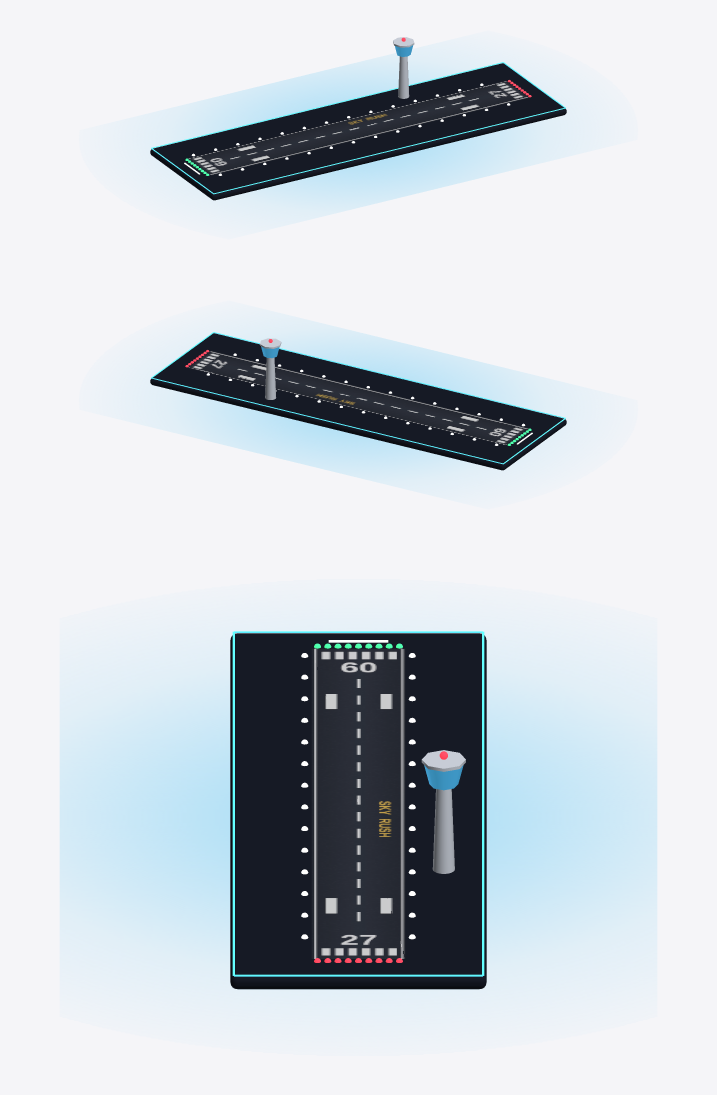
Rendered from crash_pad.glb.
3 renders of one model, top to bottom at view 1: azimuth 30°, elevation 25°; view 2: azimuth 150°, elevation 25°; view 3: azimuth 270°, elevation 25°, orthographic. The views are drawn at different scales.
Parts seen in each view (by area): view 1: FloorShadow, Slab, Runway, PadEdge (×2), Stem; view 2: FloorShadow, Slab, Runway, PadEdge (×2), Stem; view 3: FloorShadow, Slab, Runway, PadEdge (×2), Stem, RunwayLights.
Boxes of the visible parts, bbox=[...] form: FloorShadow: bbox=[182, 62, 534, 207]; Slab: bbox=[150, 63, 566, 200]; Runway: bbox=[188, 81, 528, 175]; PadEdge (×2): bbox=[151, 62, 565, 194]; Stem: bbox=[398, 56, 409, 98]; FloorShadow: bbox=[182, 332, 534, 477]; Slab: bbox=[150, 333, 566, 470]; Runway: bbox=[188, 351, 528, 445]; PadEdge (×2): bbox=[151, 332, 565, 464]; Stem: bbox=[265, 357, 276, 399]; FloorShadow: bbox=[60, 678, 656, 956]; Slab: bbox=[230, 633, 486, 989]; Runway: bbox=[311, 648, 405, 958]; PadEdge (×2): bbox=[232, 631, 484, 975]; Stem: bbox=[432, 789, 454, 873]; RunwayLights: bbox=[301, 653, 415, 939].
Bounding box in the file's own units: 1.46 × 0.17 × 0.7.
15 materials, 2 textured.
